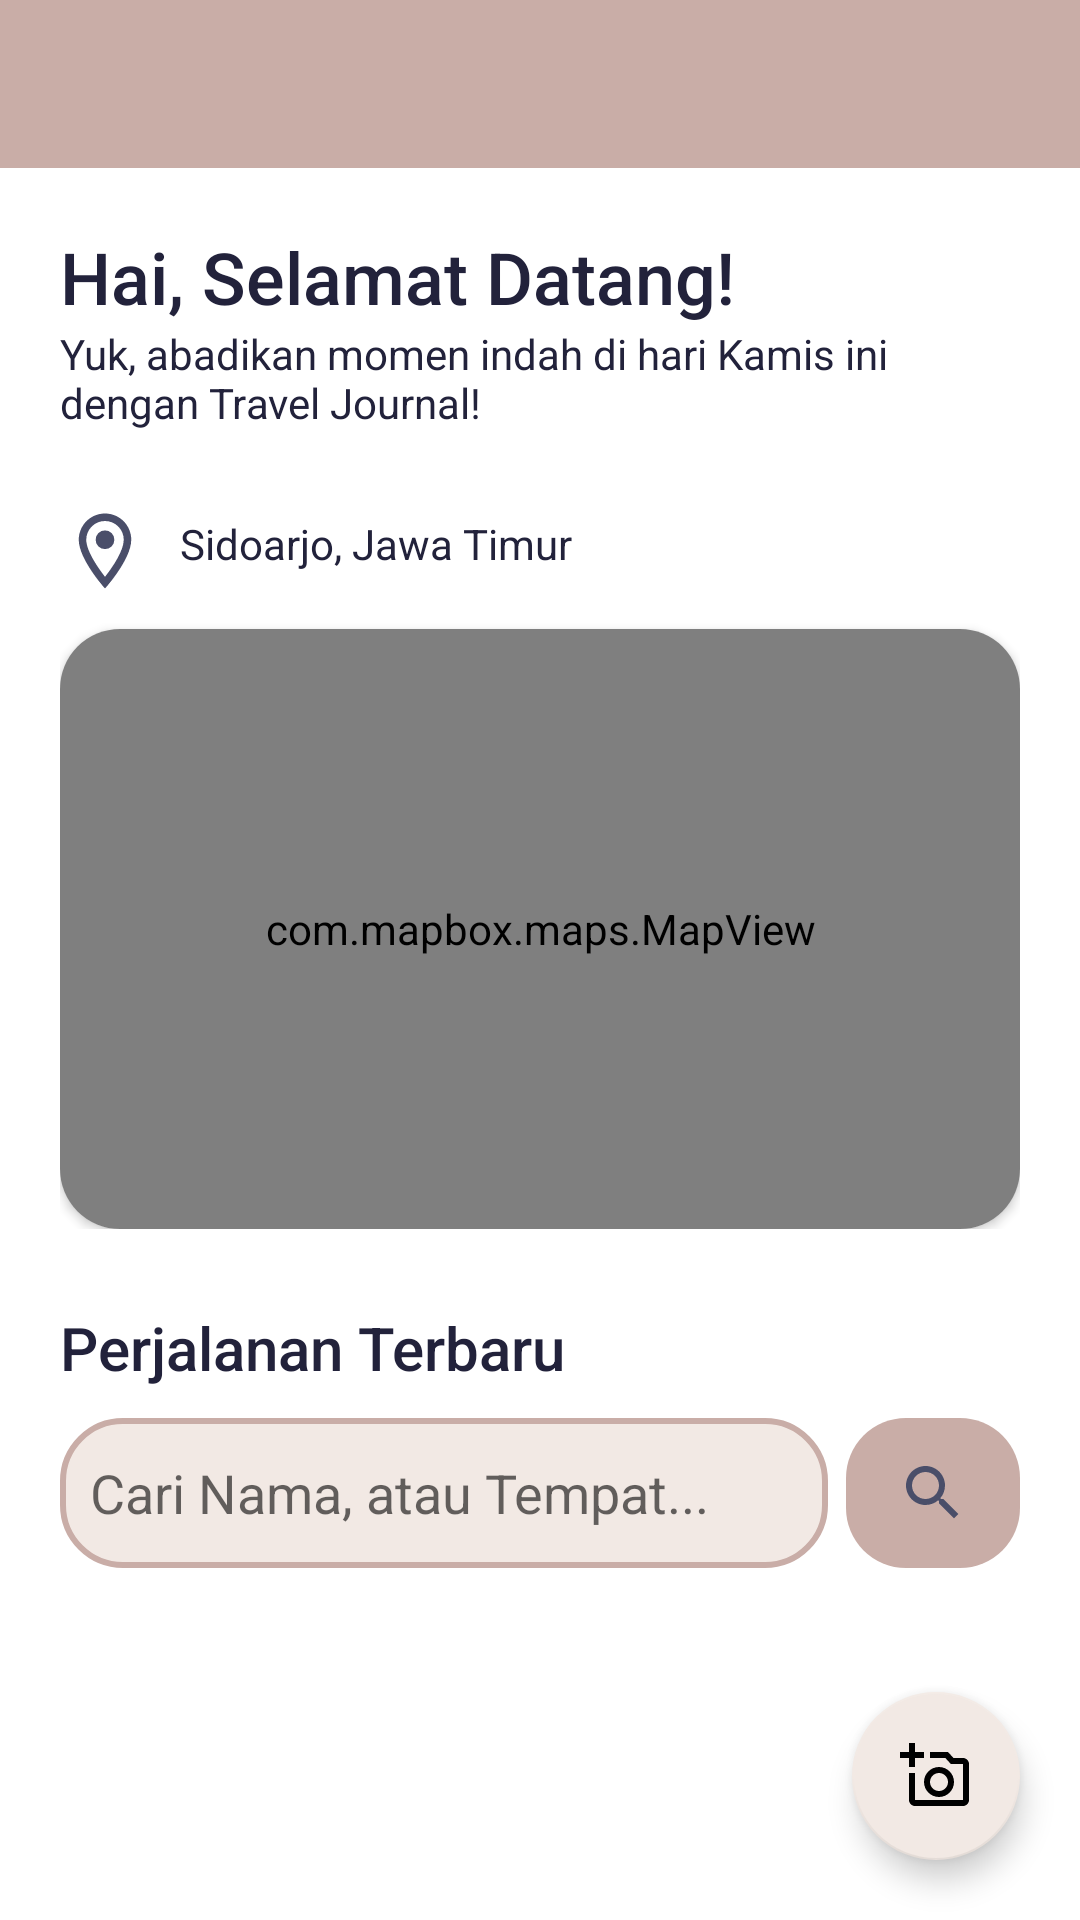

Icons on this 1080x1920 Android screen, each with the point to tap as [x,y]:
add photo: [936,1777]
location on: [105,550]
search: [933,1493]
